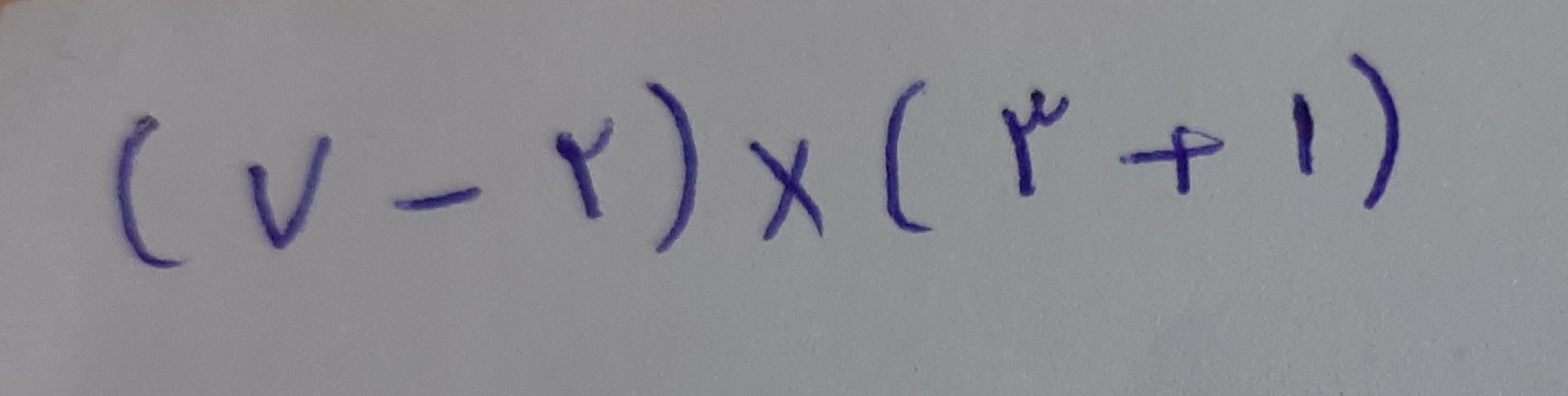character: (115, 113, 186, 271), (245, 134, 334, 251), (644, 80, 700, 256), (1348, 50, 1400, 210), (749, 137, 827, 243), (881, 81, 933, 233), (1000, 86, 1069, 198), (1119, 123, 1221, 195), (556, 116, 617, 220), (393, 185, 484, 213), (1292, 91, 1317, 178)
